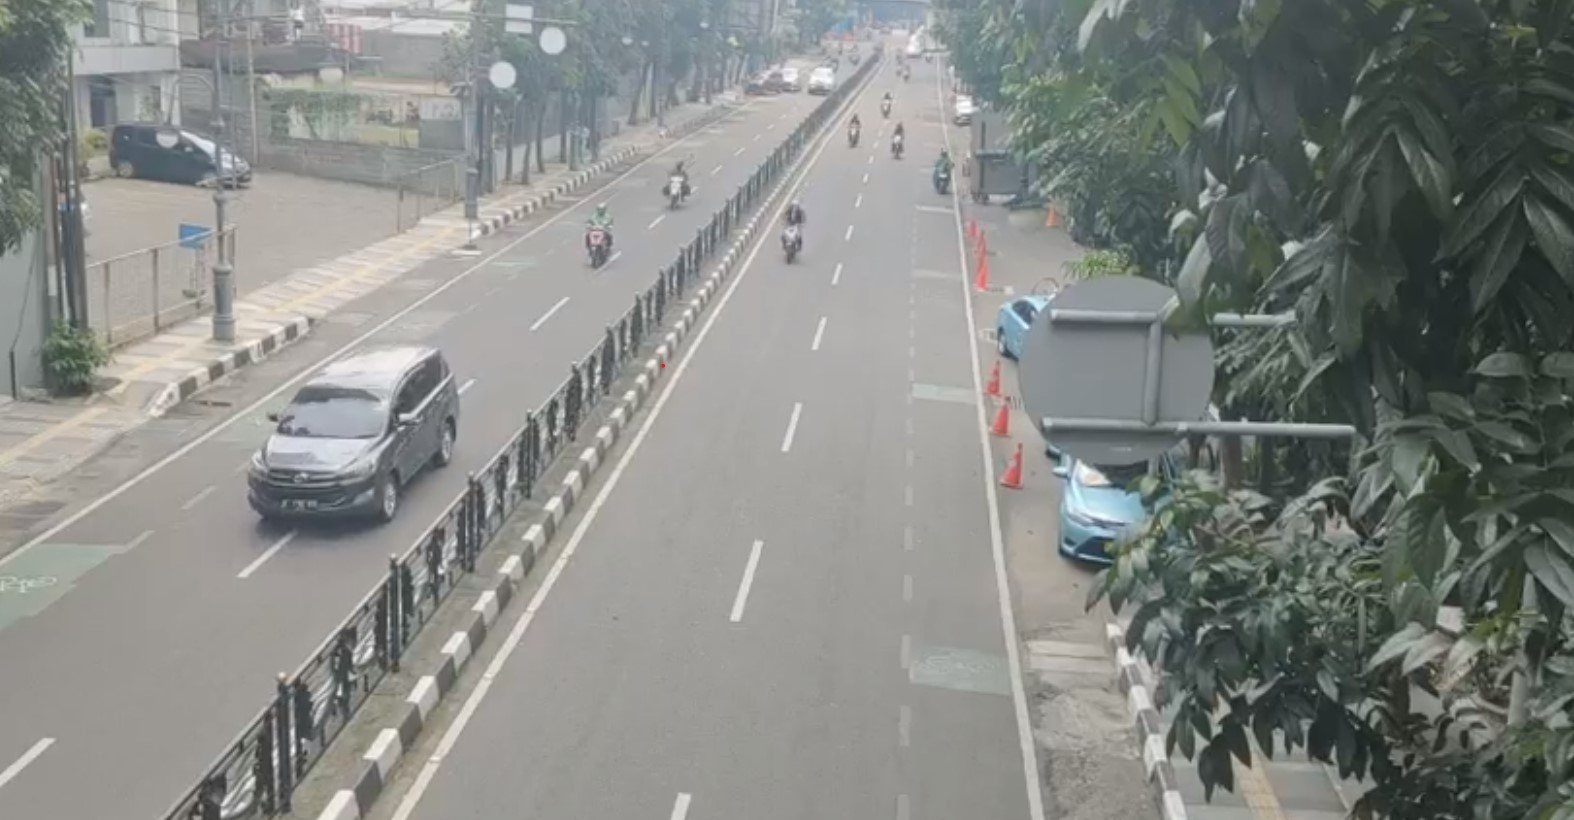mobil: (242, 343, 460, 521)
motor: (584, 204, 615, 266), (781, 203, 809, 265), (662, 160, 690, 212)
